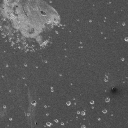corrosion: (1, 1, 63, 54), (103, 74, 110, 84), (30, 99, 37, 107), (65, 100, 72, 107), (104, 97, 111, 104), (45, 120, 52, 127), (80, 109, 86, 117), (49, 85, 55, 93), (89, 100, 96, 106), (101, 108, 108, 114), (23, 62, 29, 68), (88, 18, 93, 24), (76, 110, 81, 116), (124, 35, 128, 42), (2, 104, 7, 109), (8, 117, 13, 122), (60, 121, 65, 126), (121, 22, 126, 27), (121, 57, 125, 62), (5, 64, 9, 68), (44, 105, 48, 109), (45, 113, 49, 117)
